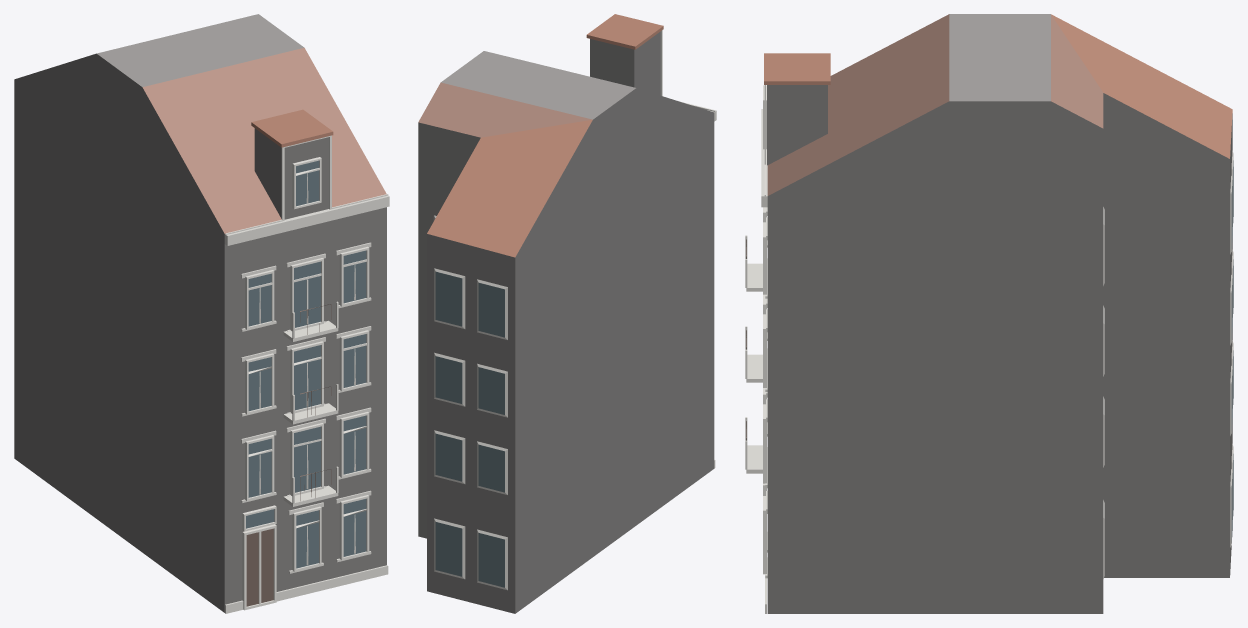
File: chunk-face-retief-45-75-r2.lod2.glb
3 renders of one model, left to right at view 1: azimuth 30°, elevation 25°; view 2: azimuth 150°, elevation 25°; view 3: azimuth 270°, elevation 25°, orthographic. The views are drawn at different scales.
Parts seen in each view (by area): view 1: lod2; view 2: lod2; view 3: lod2.
Boxes of the visible parts, <box> form: lod2: <box>14,14,389,613</box>; lod2: <box>418,14,716,613</box>; lod2: <box>745,14,1233,613</box>.
Size of the model in its own units: 5.96 by 16.32 by 14.09.
